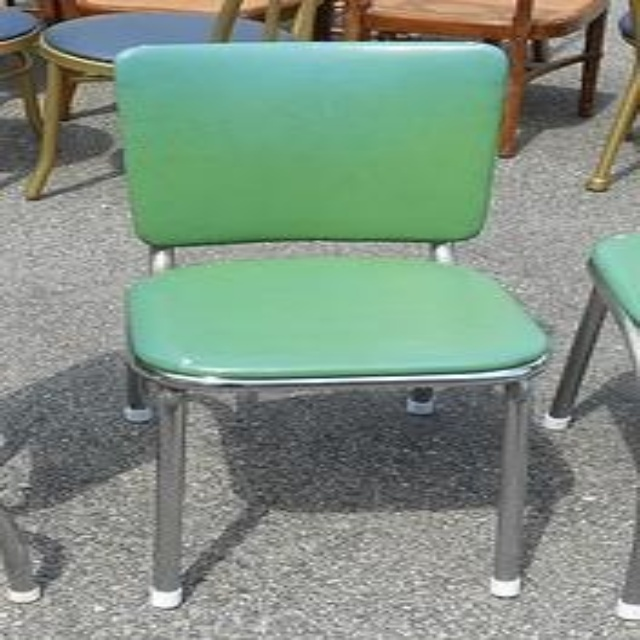obstacle: (116, 42, 542, 604)
